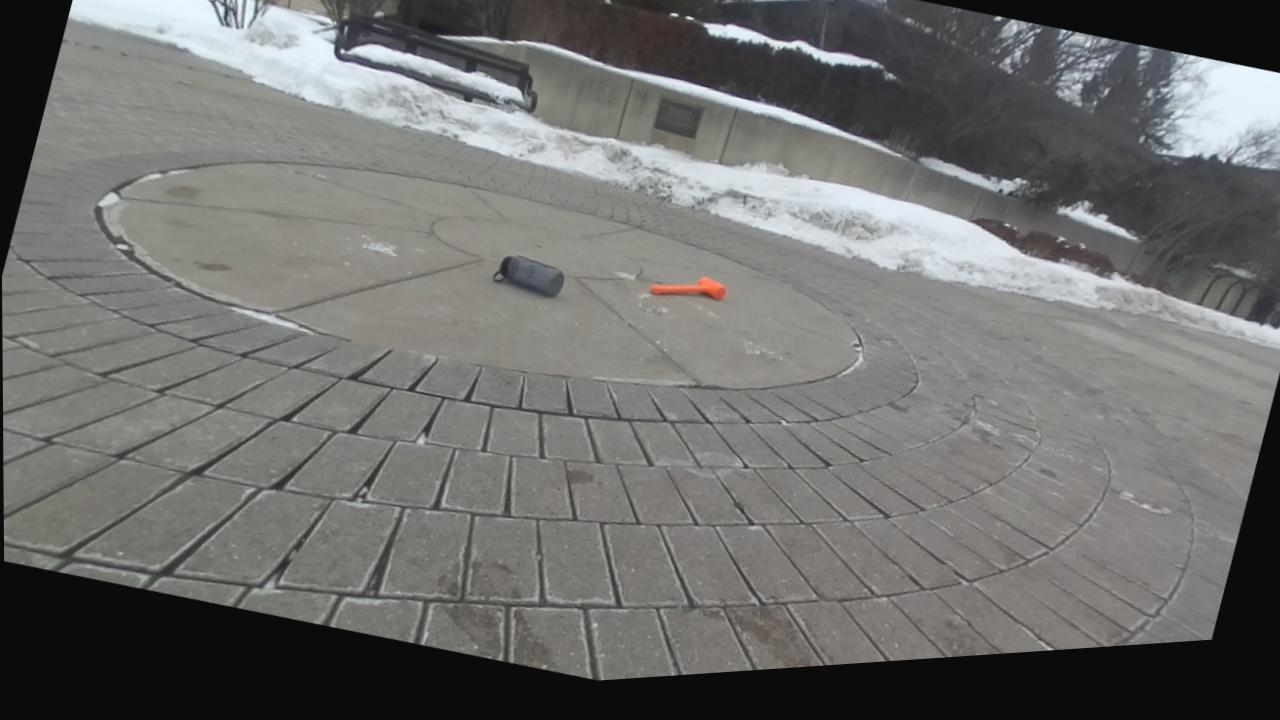bottle: (494, 255, 563, 297)
mallet: (651, 277, 726, 299)
